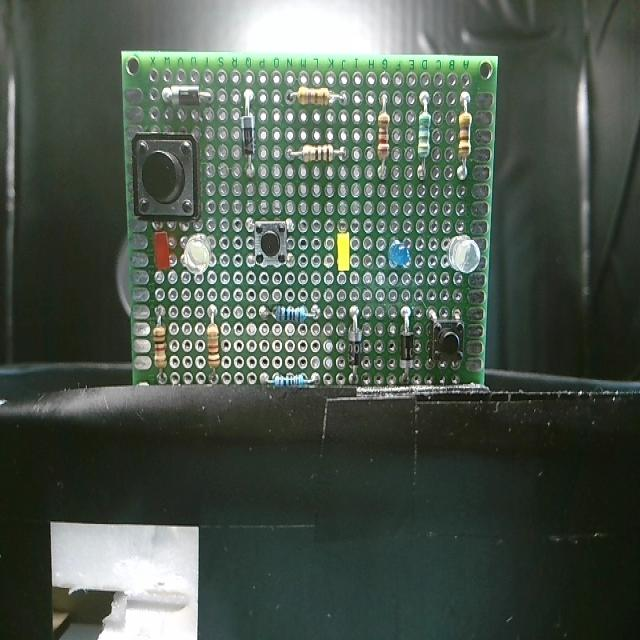diode: (239, 111, 256, 160), (397, 328, 416, 371), (168, 85, 204, 107), (347, 324, 364, 367)
led: (448, 233, 483, 277), (182, 234, 215, 274), (152, 232, 172, 274), (334, 233, 352, 275), (386, 238, 411, 268)
resistor: (152, 322, 170, 373), (203, 320, 220, 371), (300, 141, 339, 163), (294, 86, 339, 105), (269, 303, 312, 322), (267, 372, 310, 391), (418, 110, 432, 161), (377, 109, 390, 161), (457, 113, 471, 158)
switch: (134, 134, 203, 224), (430, 316, 465, 367), (254, 220, 288, 266)
